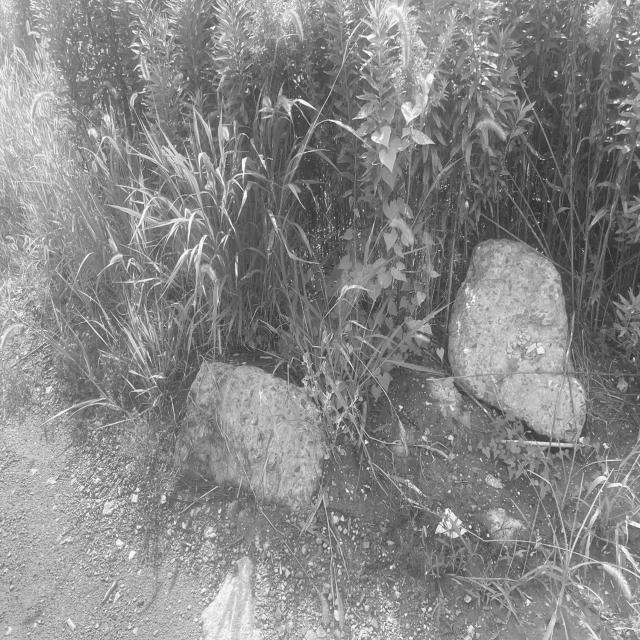Stone: (448, 238, 586, 441), (175, 362, 324, 510)
